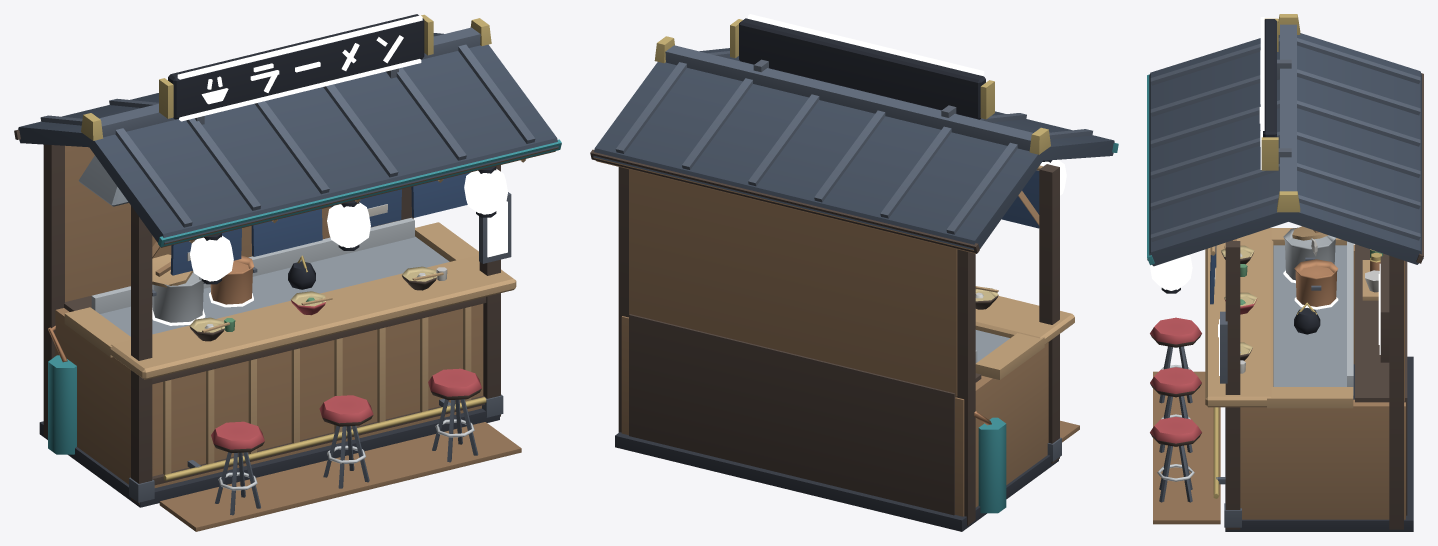
The model's file is noodle-stall.glb.
3 views of the same model, side by side, from view 1: azimuth 30°, elevation 25°; view 2: azimuth 150°, elevation 25°; view 3: azimuth 270°, elevation 25° (orthographic). The views are drawn at different scales.
Parts seen in each view (by area): view 1: Body, Signal; view 2: Body, Signal; view 3: Body, Signal.
Boxes of the visible parts, x1,y1,x2,y2 form: Body: (14, 14, 561, 531); Signal: (152, 15, 507, 325); Body: (590, 18, 1118, 531); Signal: (748, 14, 1066, 195); Body: (1147, 14, 1423, 531); Signal: (1150, 17, 1380, 375).
Bounding box in the file's own units: 2.8 × 2.7 × 1.8.
